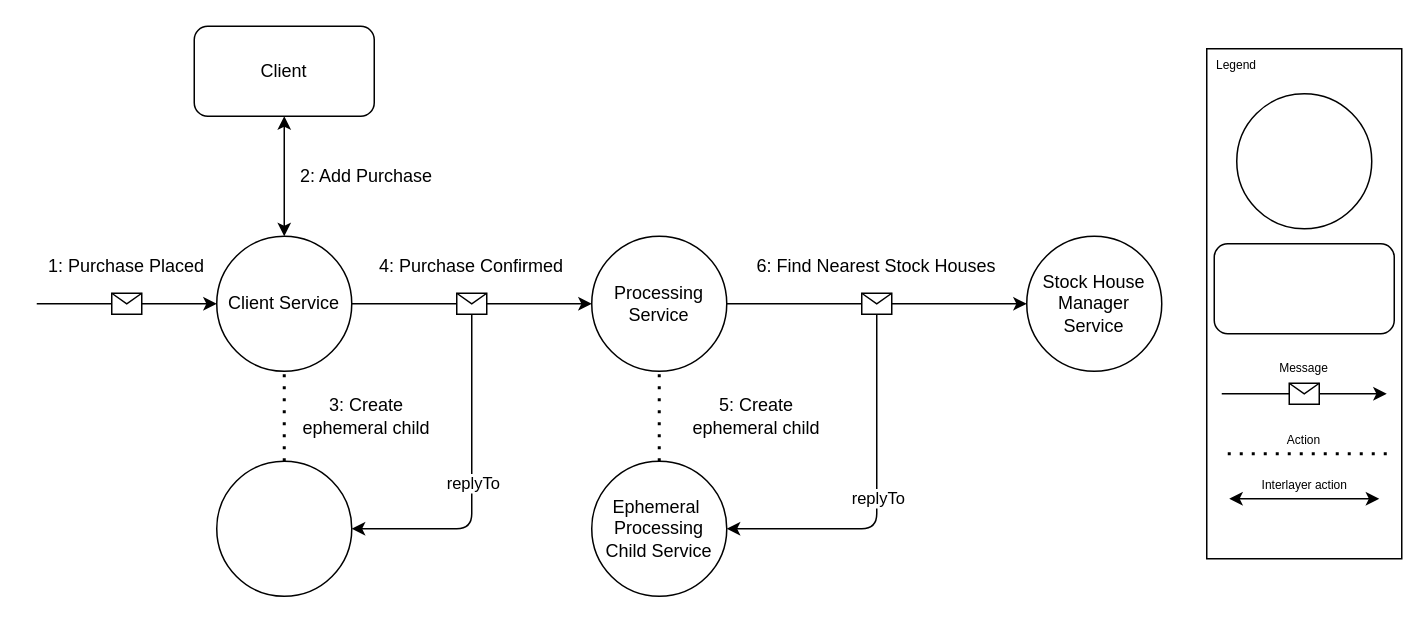
Some shapes in this 1428 by 623 pixel diagram are drawn without their labels. Here are the shapes that lost their labels. From the top down, the centre of each, then its label:
pixel 1303 160: Communication Logic Object
pixel 1303 288: Bussiness Logic Object
pixel 283 528: Ephemeral Client Child Service
